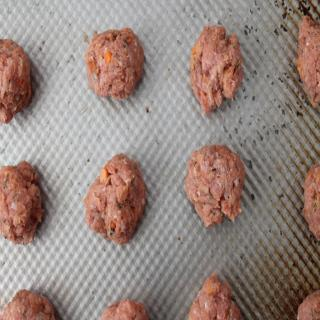Cookie: (83, 151, 146, 246), (190, 22, 243, 116), (185, 145, 245, 226), (84, 28, 143, 99), (0, 160, 43, 244), (0, 37, 32, 124), (188, 272, 242, 320), (299, 13, 320, 108), (0, 286, 56, 320), (303, 160, 320, 242), (100, 298, 149, 320), (297, 288, 320, 320)
